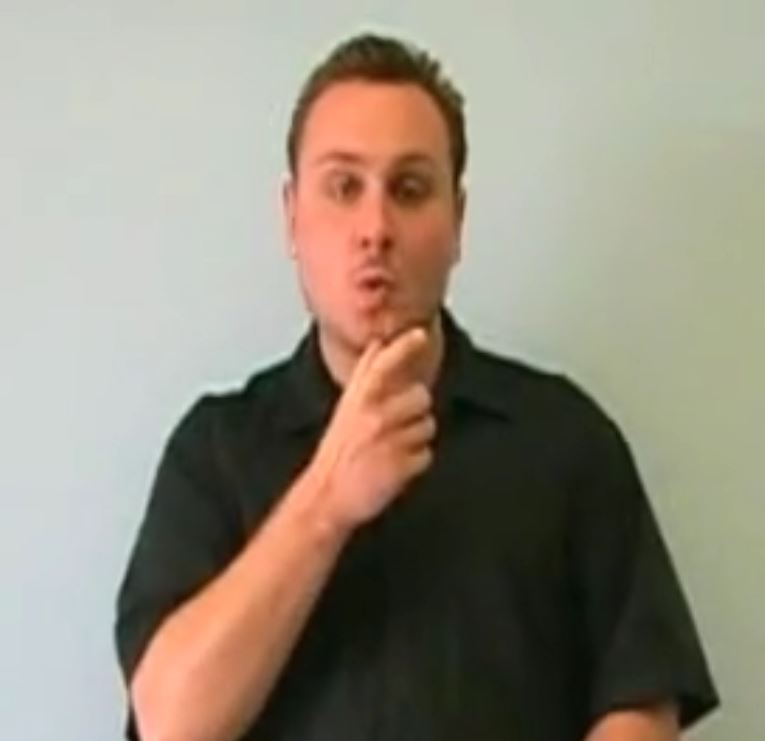who: (333, 300, 472, 506)
